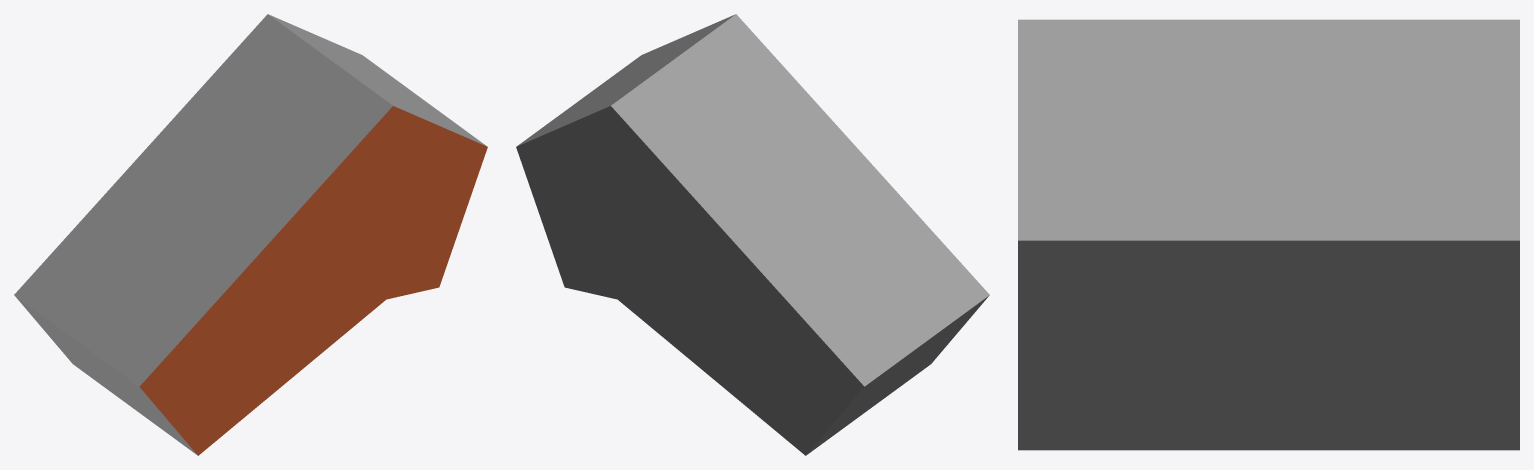
The model's file is construction_0499_assumed_A_Casa_h6m.obj.
3 renders of one model, left to right at view 1: azimuth 30°, elevation 25°; view 2: azimuth 150°, elevation 25°; view 3: azimuth 270°, elevation 25°, orthographic. The views are drawn at different scales.
Visible parts, largest first — view 1: construction_0499_assumed_A_Casa; view 2: construction_0499_assumed_A_Casa; view 3: construction_0499_assumed_A_Casa.
Boxes of the visible parts, x1,y1,x2,y2 form: construction_0499_assumed_A_Casa: (14, 14, 487, 455); construction_0499_assumed_A_Casa: (516, 14, 989, 455); construction_0499_assumed_A_Casa: (1018, 19, 1519, 450).
Size of the model in its own units: 9.62 by 7.99 by 6.
